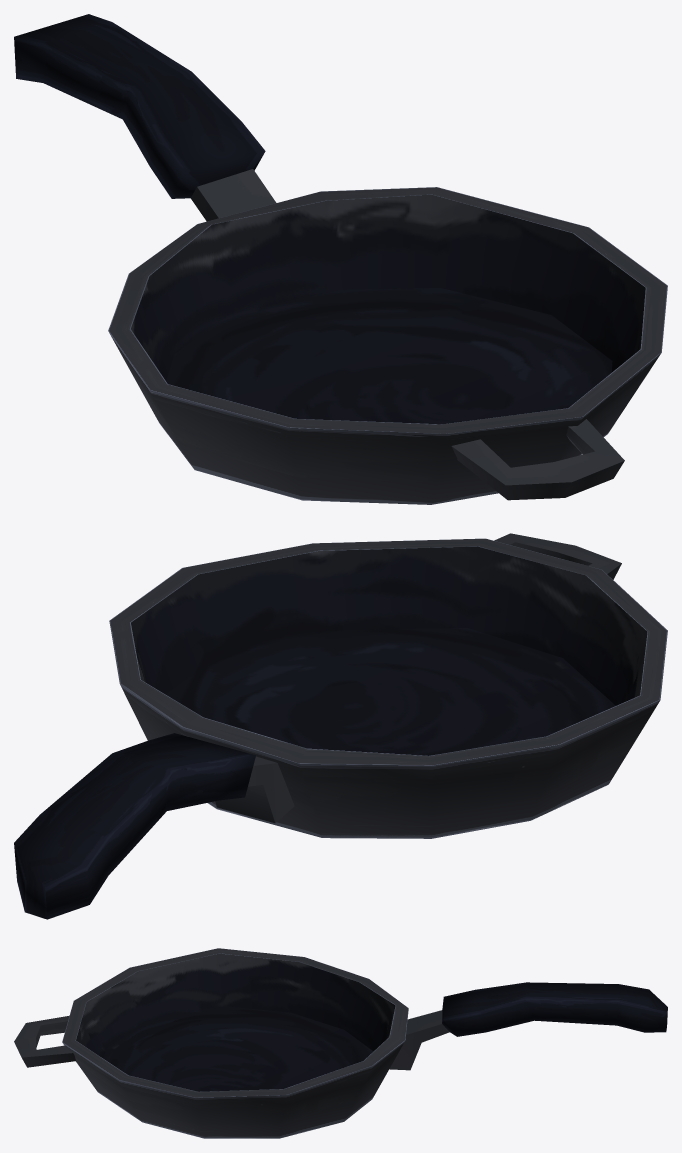
The model's file is SM_PROP_pan_interior.fbx.
3 views of the same model, one above another, from view 1: azimuth 30°, elevation 25°; view 2: azimuth 150°, elevation 25°; view 3: azimuth 270°, elevation 25° (orthographic). The views are drawn at different scales.
Parts seen in each view (by area): view 1: SM_PROP_pan_interior; view 2: SM_PROP_pan_interior; view 3: SM_PROP_pan_interior.
Boxes of the visible parts, x1,y1,x2,y2 form: SM_PROP_pan_interior: (14, 14, 667, 504); SM_PROP_pan_interior: (14, 533, 667, 919); SM_PROP_pan_interior: (14, 948, 667, 1138).
Bounding box in the file's own units: 29.09 × 8.62 × 54.49.
